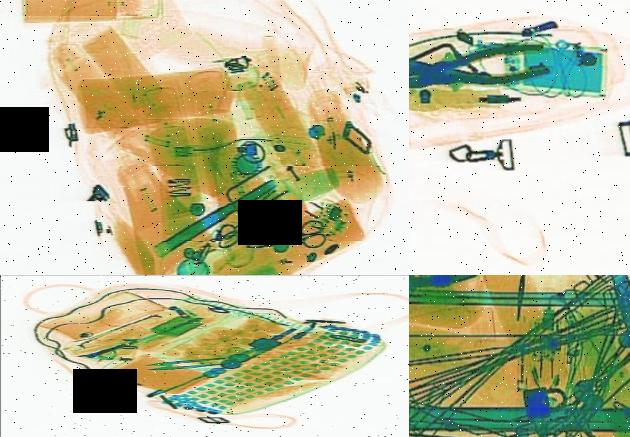Pliers: (409, 36, 552, 100), (409, 275, 488, 298)
Scissors: (264, 216, 331, 258), (143, 356, 238, 370)
